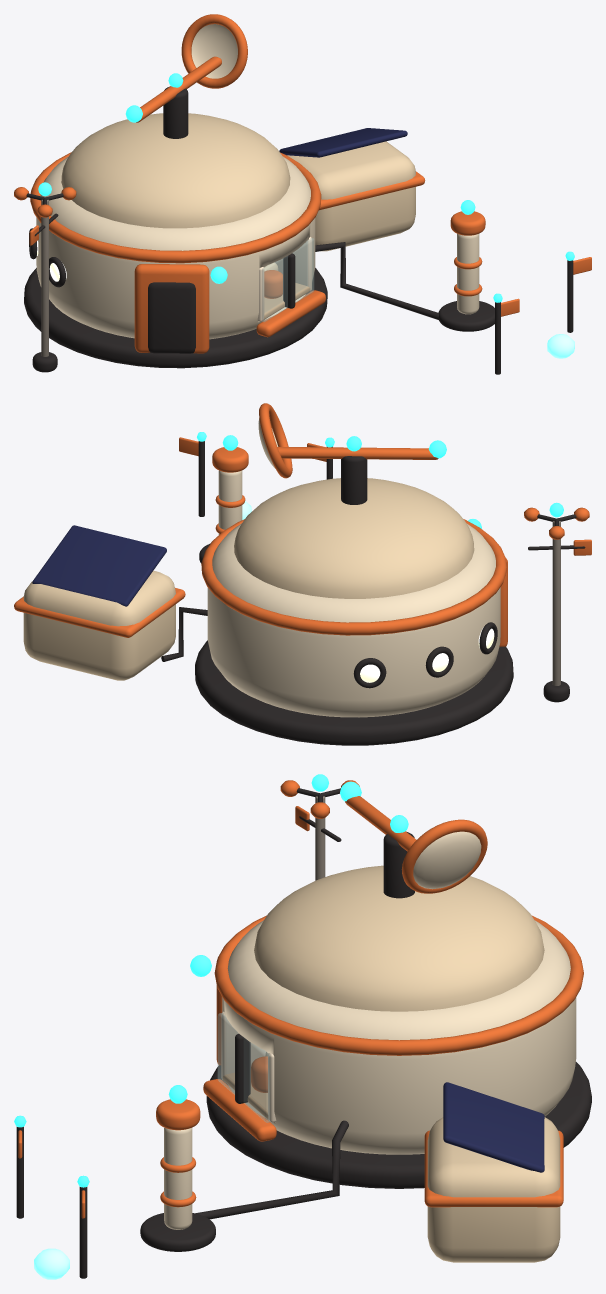
Rendered from geolocator-7.glb.
3 renders of one model, top to bottom at view 1: azimuth 30°, elevation 25°; view 2: azimuth 150°, elevation 25°; view 3: azimuth 270°, elevation 25°, orthographic. The views are drawn at different scales.
Parts seen in each view (by area): view 1: Sphere.002, Cylinder.001, Cube.014, Cylinder, Torus, Cube.010, Cube.009, Cube.006, Cube.016, Torus.001, Sphere.003, Cylinder.008 (+14 smaller); view 2: Cylinder.001, Sphere.002, Cylinder, Cube.014, Cube.016, Torus, Cube.011, Cube.015, Cylinder.013, Torus.001, Cylinder.003, Cylinder.008 (+7 smaller); view 3: Cylinder.001, Sphere.002, Cube.014, Cylinder, Torus, Cube.016, Cube.006, Sphere.003, Cylinder.008, Cube.015, Cylinder.007, Torus.001 (+11 smaller).
Part boxes in pixels (x1,y1,x2,y2): Sphere.002: (61,113,290,228); Cylinder.001: (36,156,315,339); Cube.014: (287,141,415,251); Cylinder: (24,268,327,368); Torus: (30,152,321,263); Cube.010: (148,282,195,353); Cube.009: (134,264,209,353); Cube.006: (262,238,314,322); Cube.016: (279,128,407,157); Torus.001: (181,14,247,88); Sphere.003: (191,24,237,78); Cylinder.008: (457,233,479,314); Cylinder.001: (207,523,500,717); Sphere.002: (234,478,474,598); Cylinder: (195,640,513,745); Cube.014: (23,570,175,680); Cube.016: (32,525,166,606); Torus: (201,519,506,635); Cube.011: (277,447,438,459); Cube.015: (14,588,185,637); Cylinder.013: (552,521,560,685); Torus.001: (259,403,292,478); Cylinder.003: (341,456,367,504); Cylinder.008: (218,470,242,534); Cylinder.001: (222,920,576,1154); Sphere.002: (254,865,544,1011); Cube.014: (427,1117,560,1262); Cylinder: (206,1062,591,1188); Torus: (214,915,583,1055); Cube.016: (443,1082,544,1172); Cube.006: (217,1013,269,1122); Sphere.003: (413,831,481,889); Cylinder.008: (164,1127,192,1229); Cube.015: (424,1130,563,1207); Cylinder.007: (140,1213,215,1251); Torus.001: (401,819,487,893).
Size of the model in its own units: 2.21 by 1.2 by 1.83.
